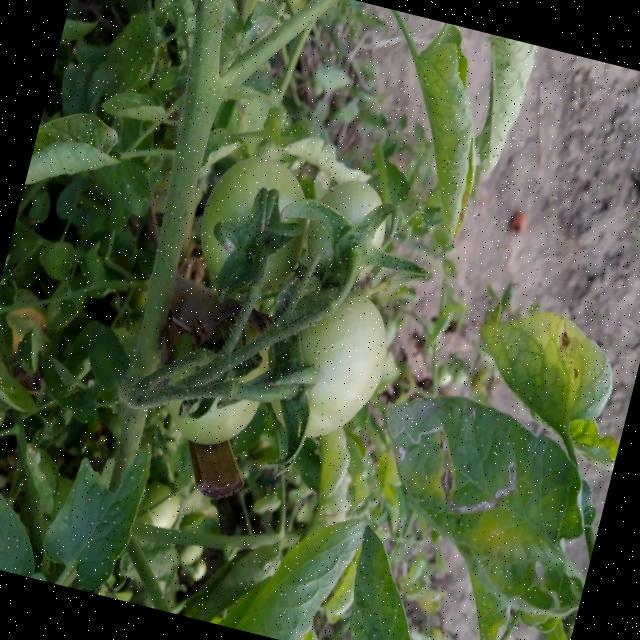Unripe: (252, 268, 401, 449), (182, 142, 323, 312)
